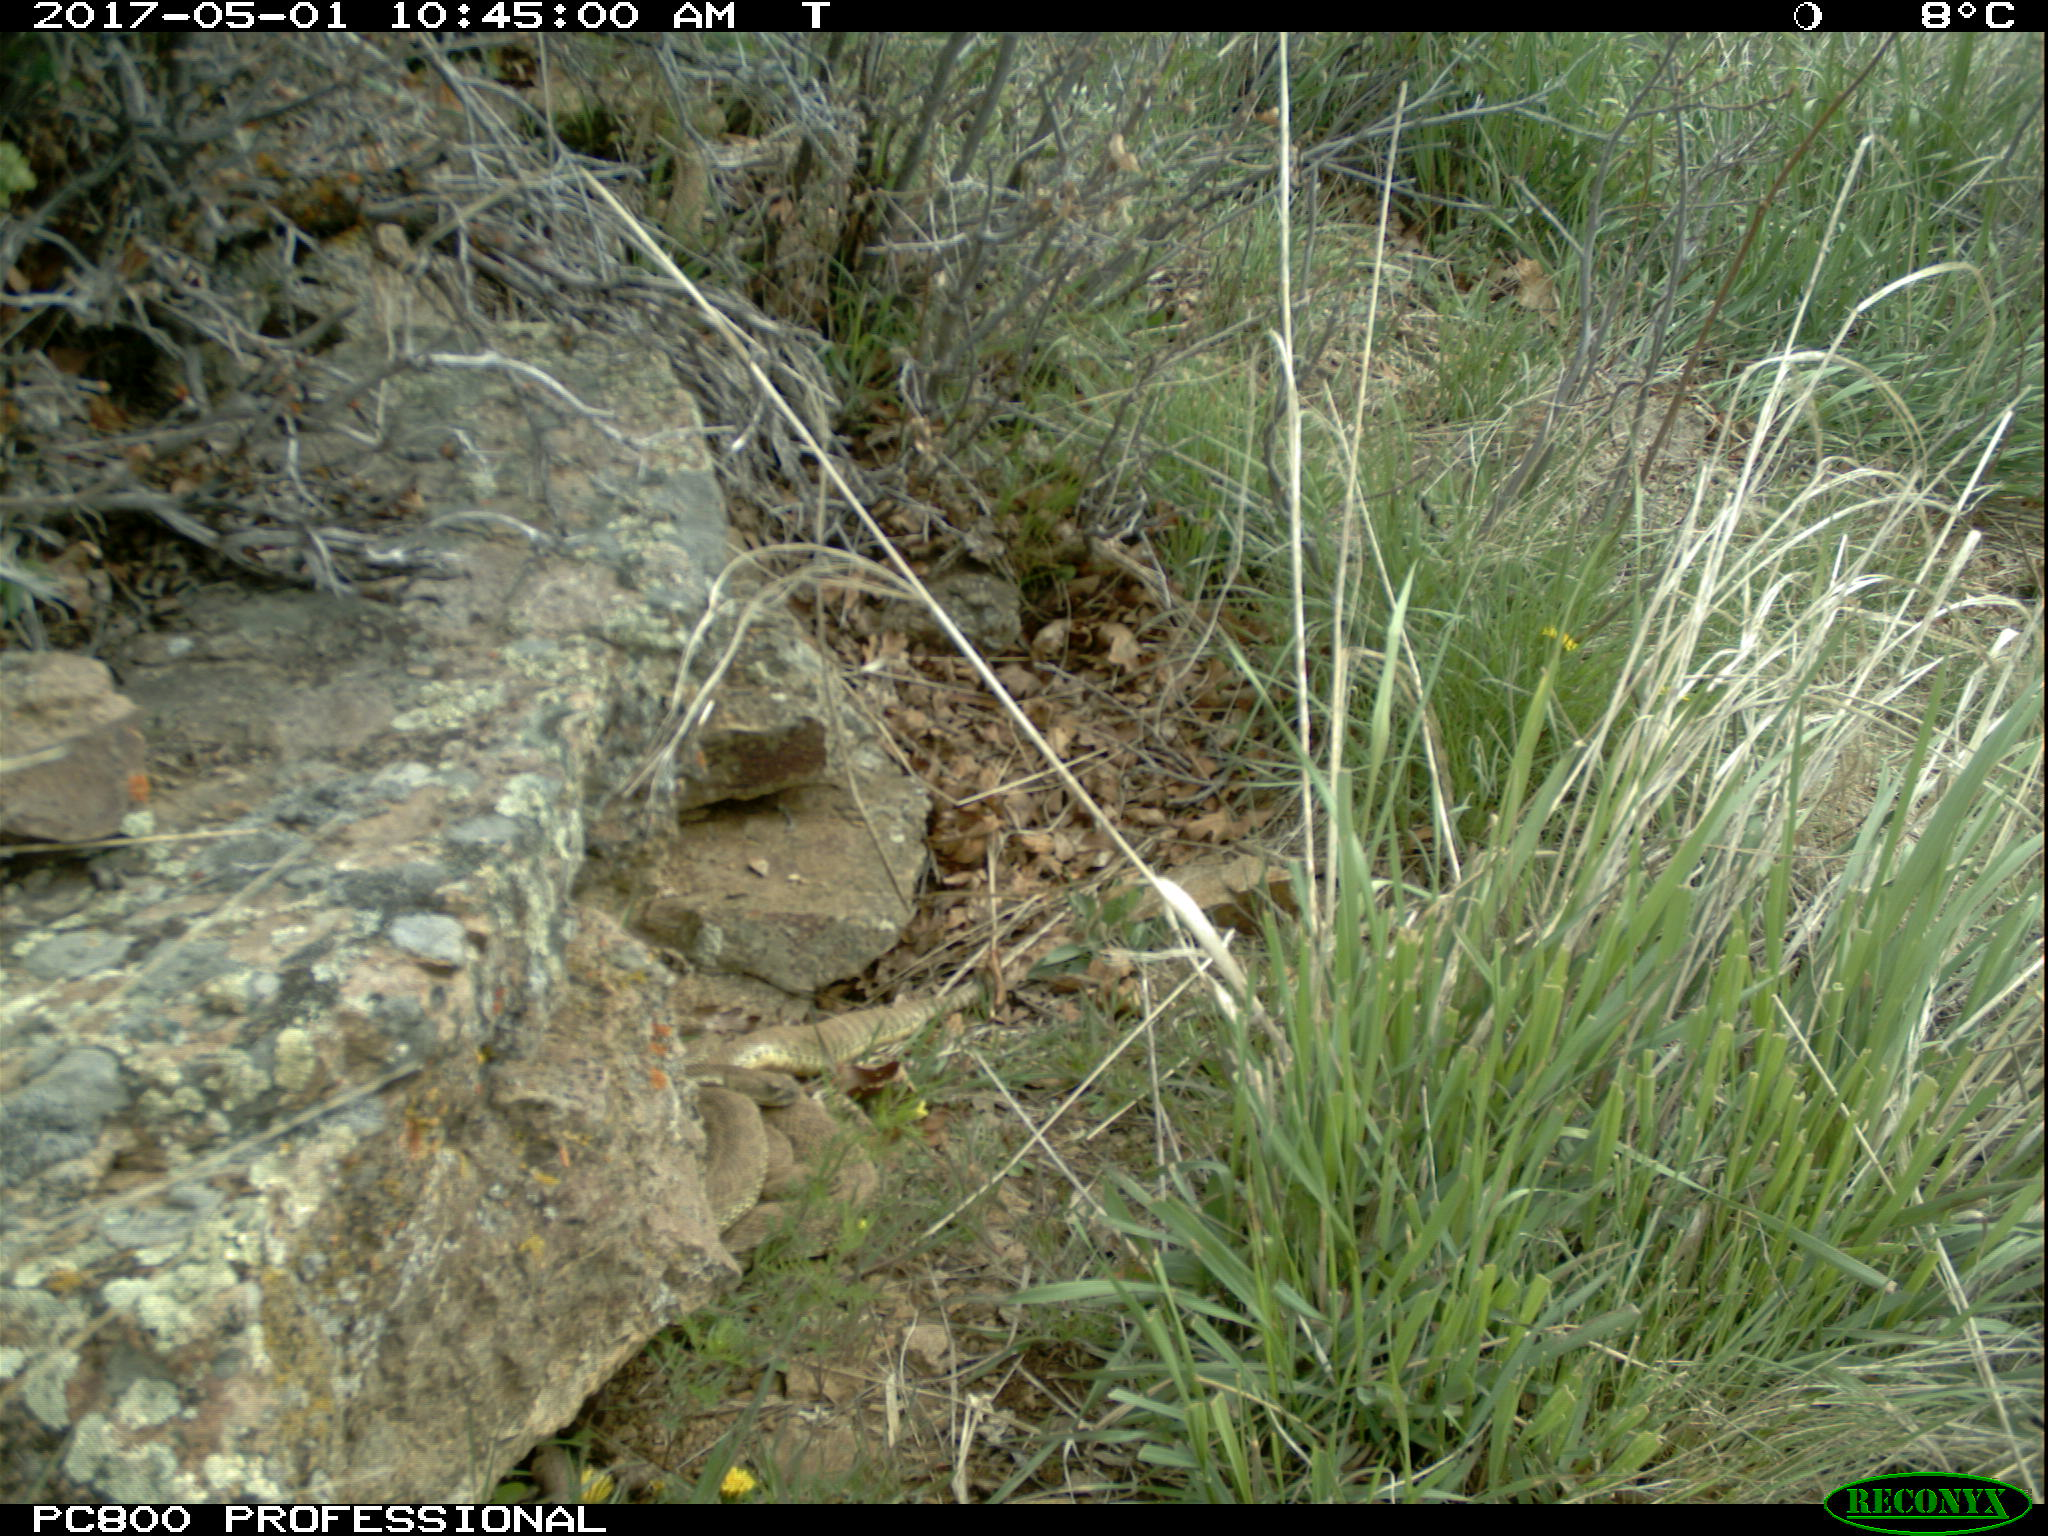snake: (677, 984, 1000, 1262)
